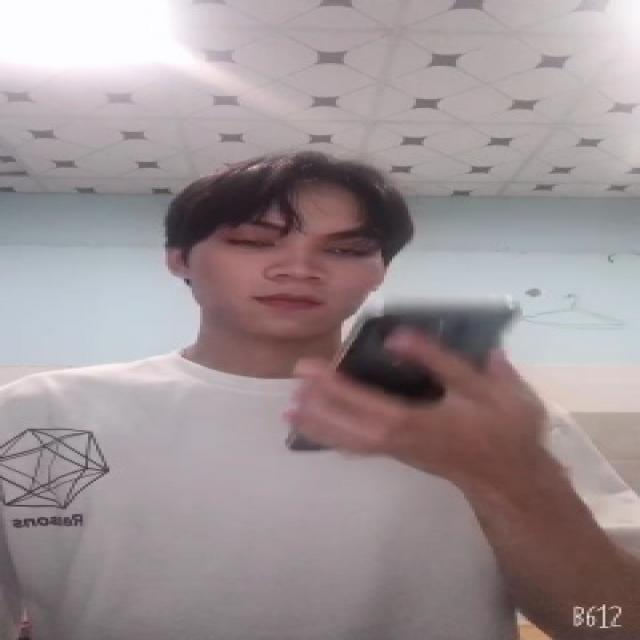Phone: (288, 302, 518, 455)
